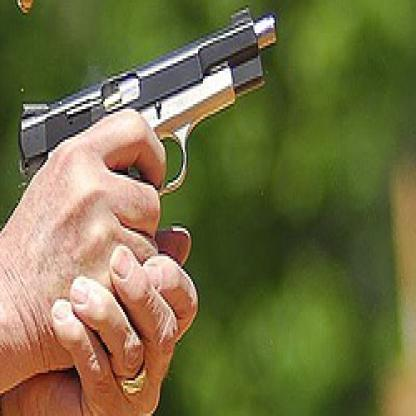gun: (15, 0, 278, 203)
